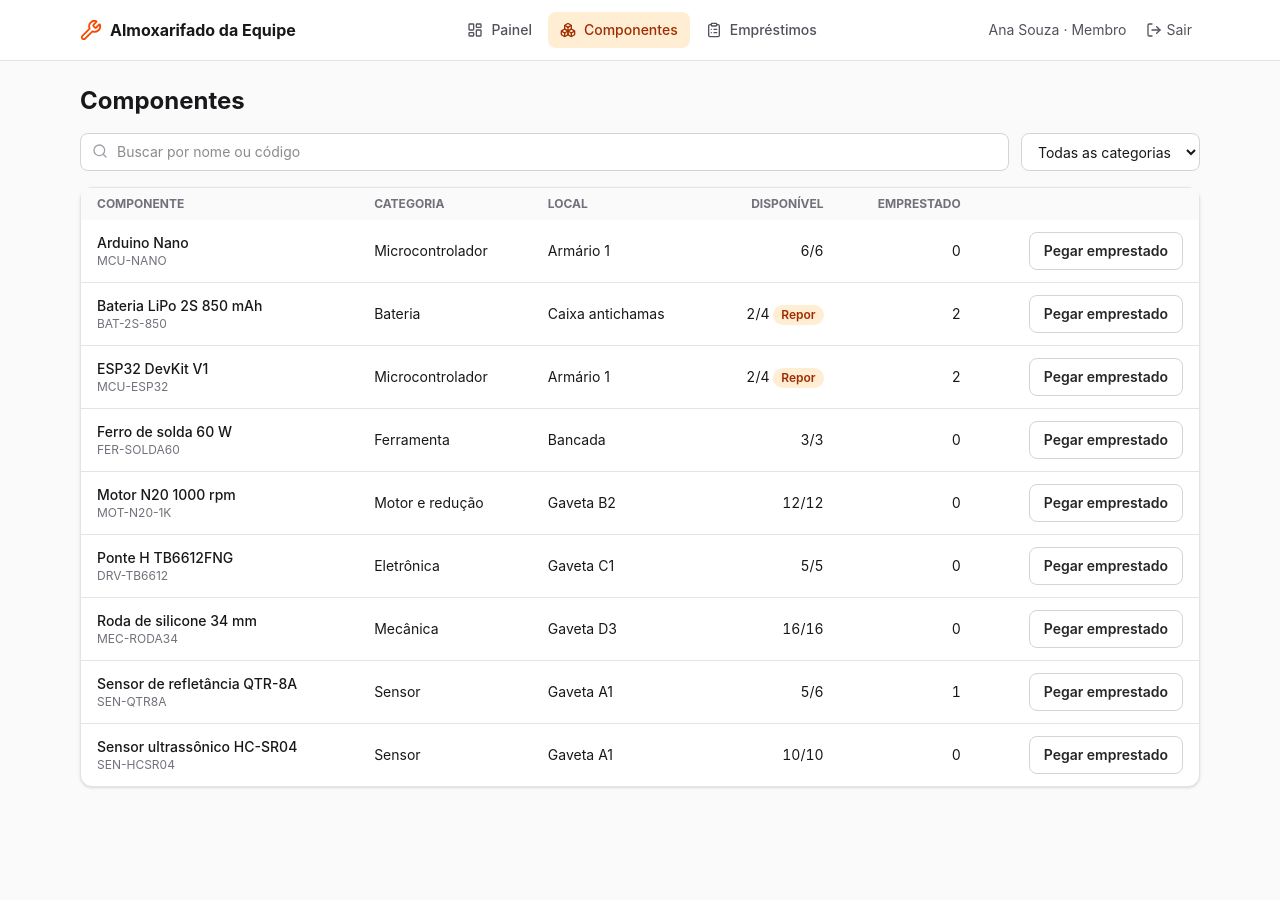
Test case: componentes › busca por nome ou código
Expected: the text "ESP32 DevKit V1" is shown, [97,360,208,377]
Step 1. Type "sen-" into the field labelled "Buscar por nome ou código" → (544, 152), box [80,133,1009,171]
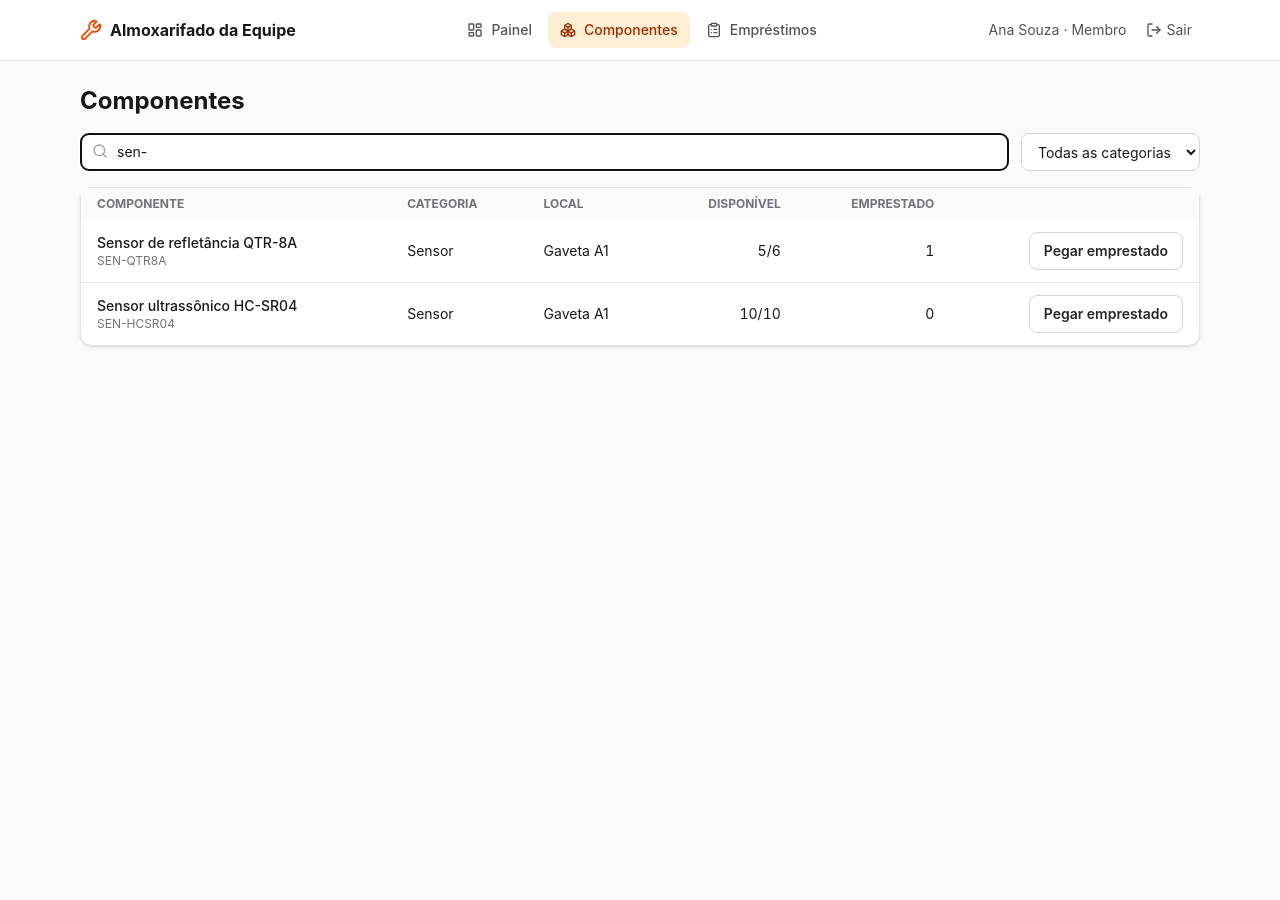
Expected: the text "Sensor ultrassônico HC-SR04" is shown, [97,297,297,314]
Expected: the text "ESP32 DevKit V1" is gone
